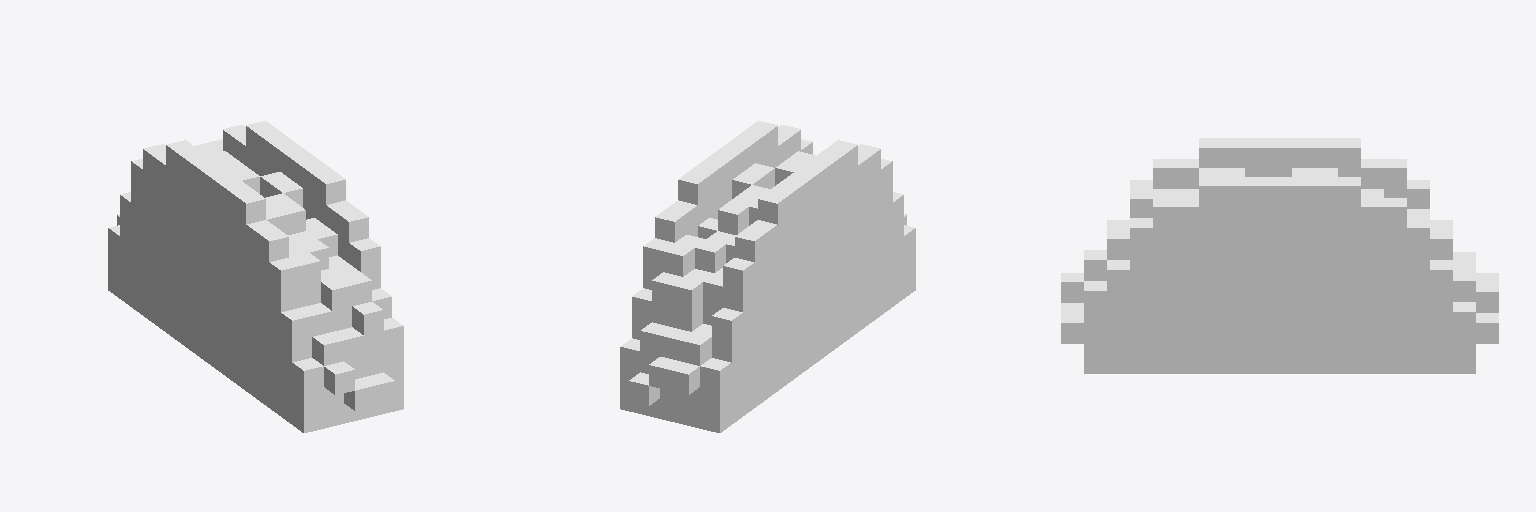
File: taco-v01.obj
3 views of the same model, side by side, from view 1: azimuth 30°, elevation 25°; view 2: azimuth 150°, elevation 25°; view 3: azimuth 270°, elevation 25° (orthographic).
Parts seen in each view (by area): view 1: object 1; view 2: object 1; view 3: object 1.
Boxes of the visible parts, box(x1,y1,x2,y2) form: object 1: box(108, 121, 403, 432); object 1: box(620, 121, 915, 432); object 1: box(1061, 138, 1498, 373).
Bounding box in the file's own units: 0.5 × 0.9 × 1.9.